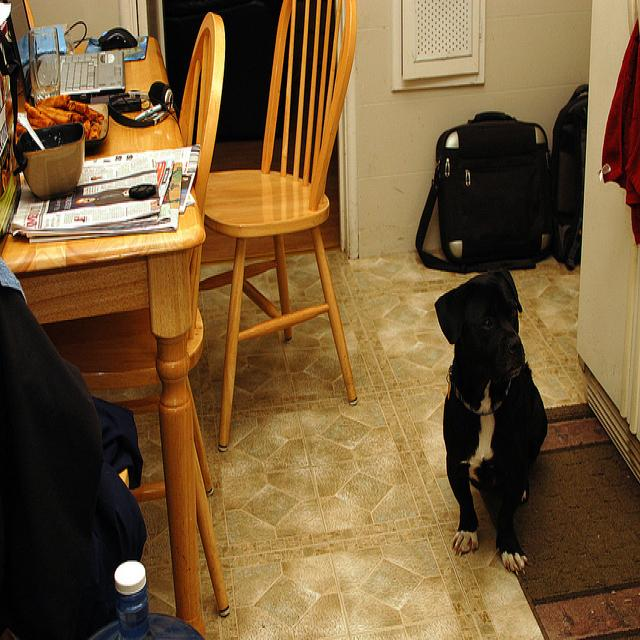chair: (42, 15, 225, 487), (202, 0, 355, 439)
dining table: (2, 30, 206, 532)
